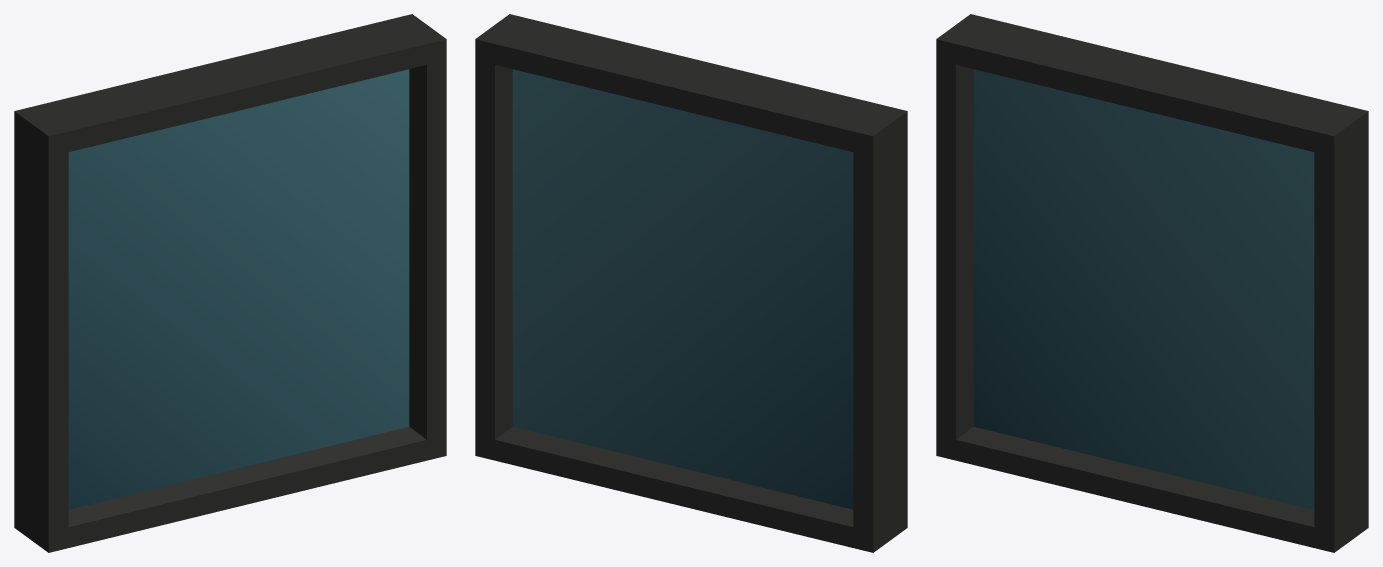
Rendered from shortWindowDarkStraight.fbx.
The picture shows the model from 3 angles, left to right: view 1: azimuth 30°, elevation 25°; view 2: azimuth 150°, elevation 25°; view 3: azimuth 330°, elevation 25°; orthographic projection.
Visible parts, largest first — view 1: shortWindowDarkStraight; view 2: shortWindowDarkStraight; view 3: shortWindowDarkStraight.
Boxes of the visible parts, x1,y1,x2,y2 form: shortWindowDarkStraight: (14, 14, 446, 552); shortWindowDarkStraight: (475, 14, 907, 552); shortWindowDarkStraight: (936, 14, 1368, 552).
Bounding box in the file's own units: 200 × 200 × 30.
Materials: 1 (1 with a texture image).
